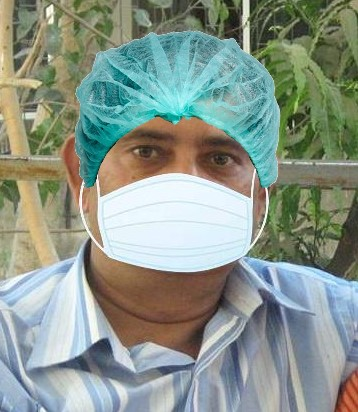with_mask_and_cap: (75, 35, 271, 272)
